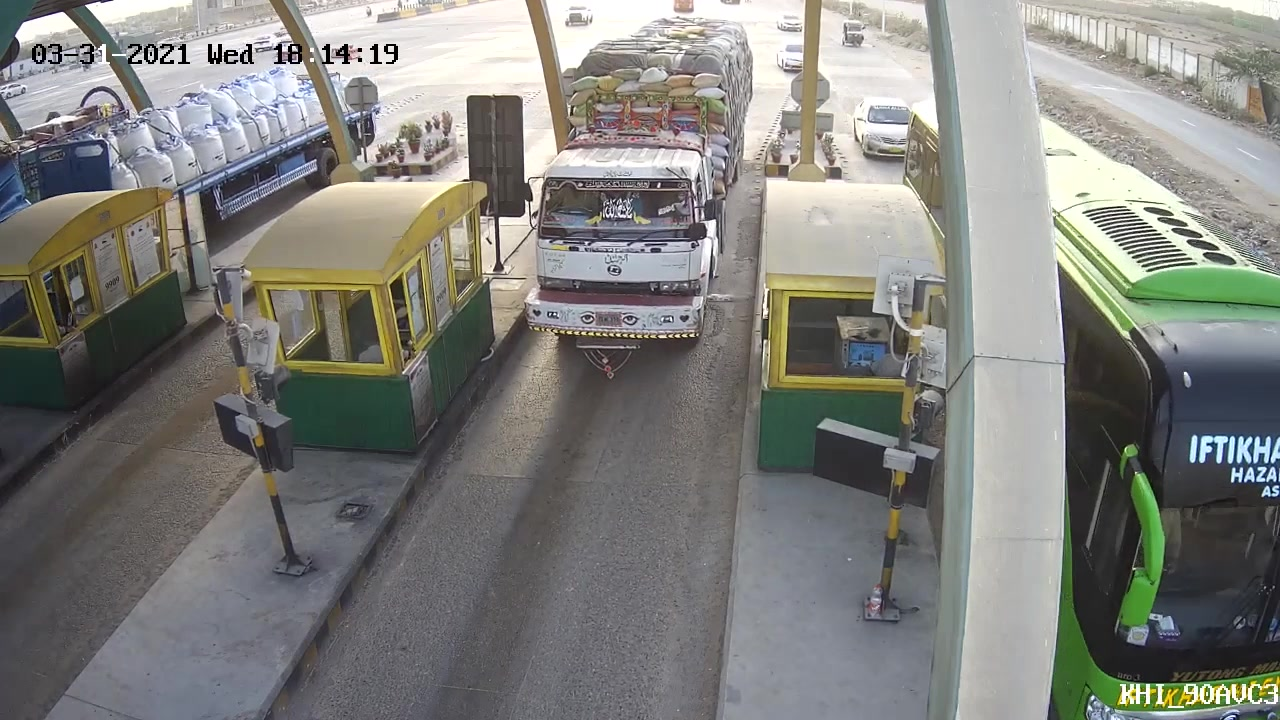F6: (511, 18, 757, 367)
